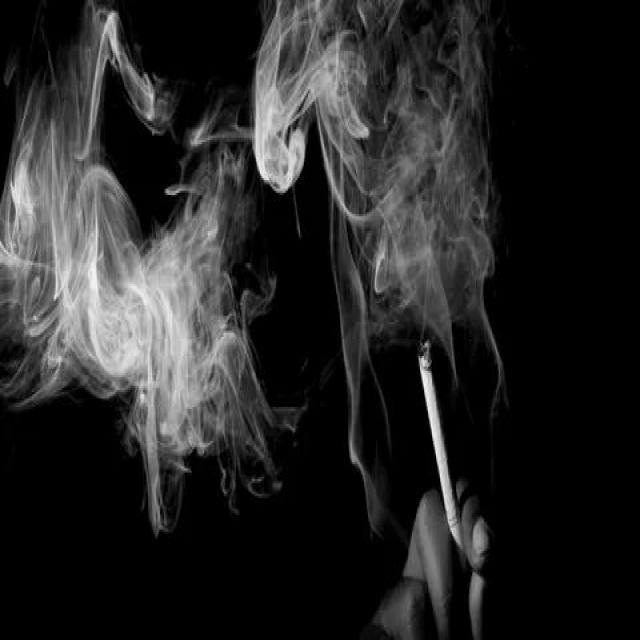smoke: (416, 335, 475, 568)
